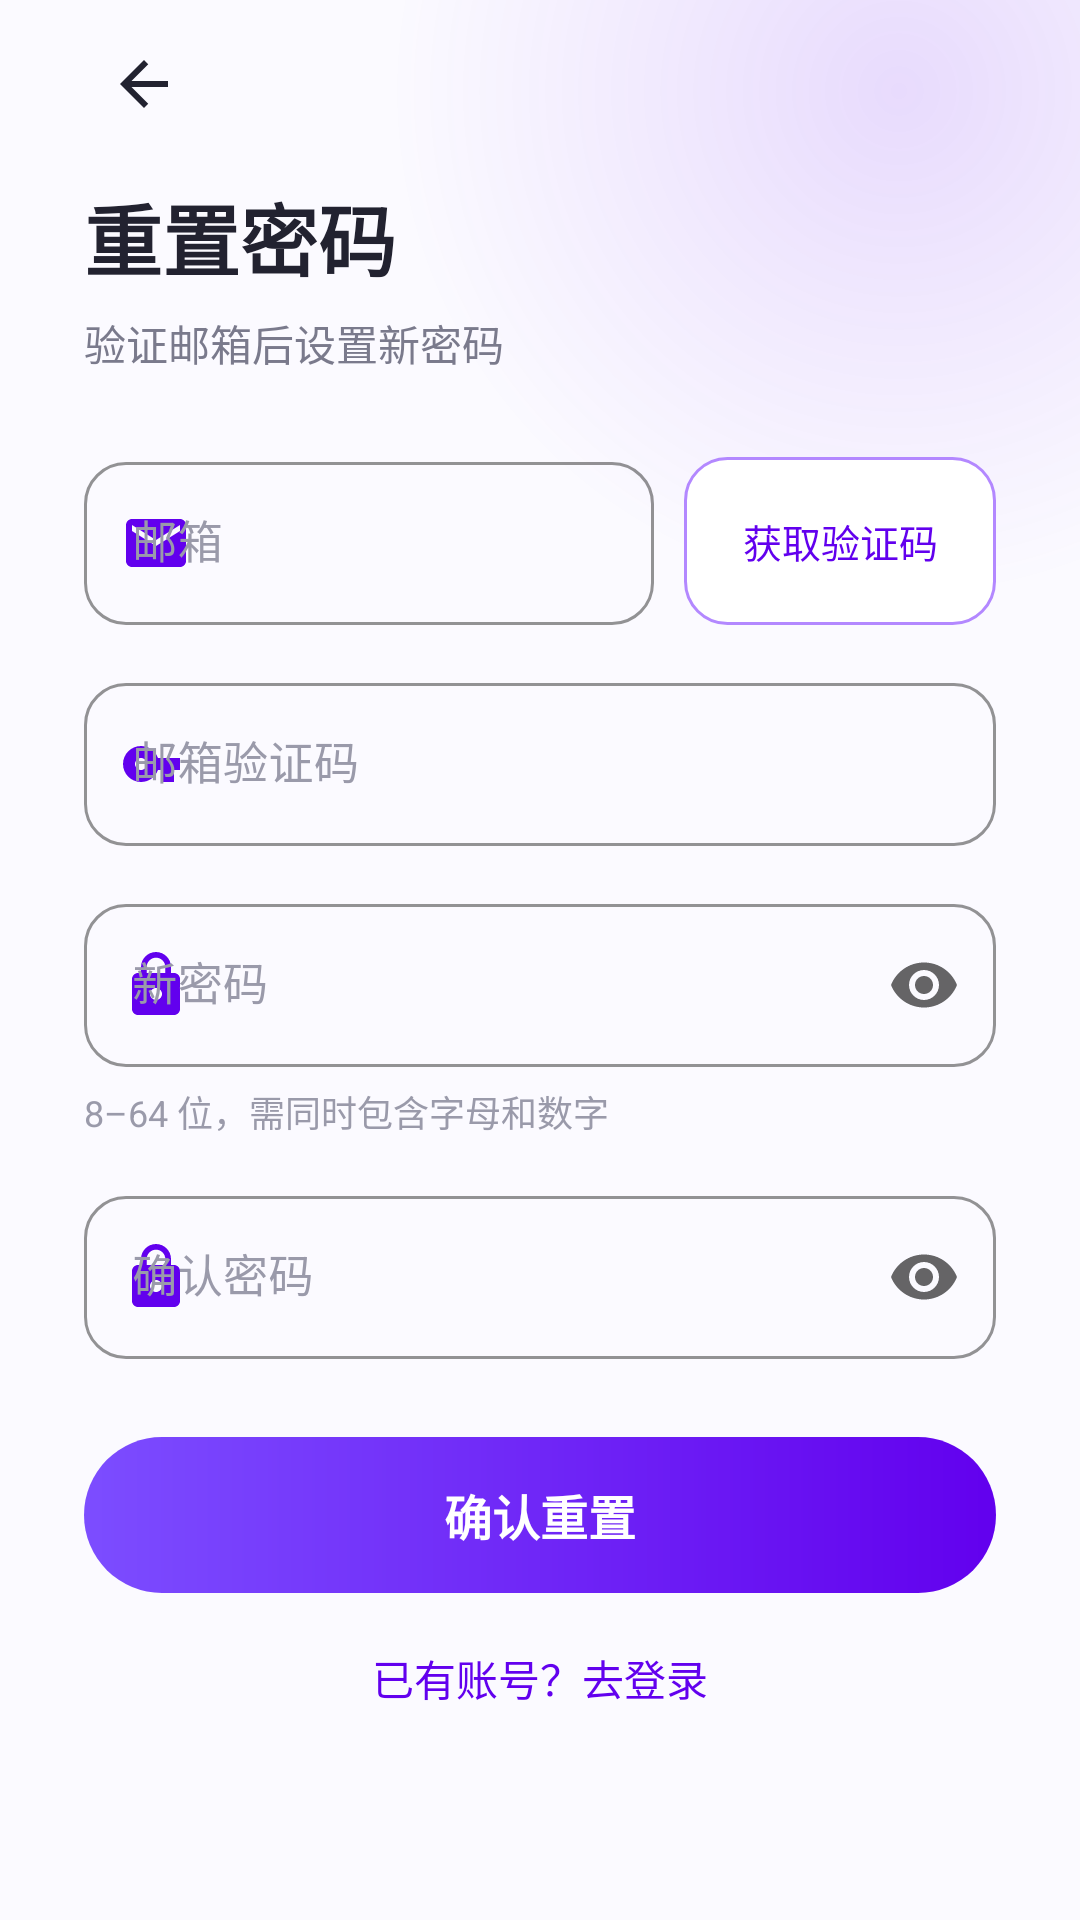

Icon click points for this 1080*1920 phone screenshot, format (x,y):
返回: (144,84)
